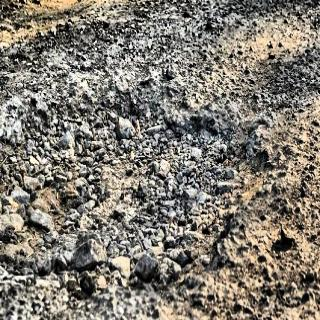pothole: (3, 91, 276, 282)
